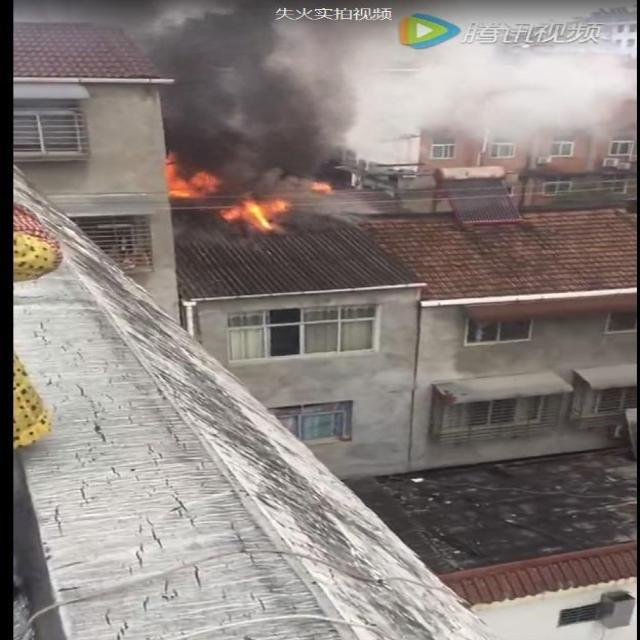Fire: (162, 154, 291, 232)
Smoke: (11, 0, 639, 226)
